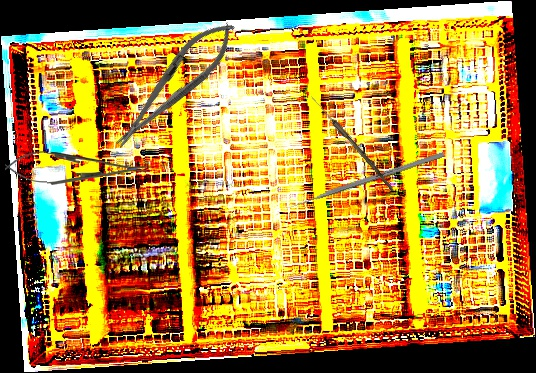Needle Holder: (102, 9, 246, 160), (4, 150, 148, 187)
Pusher: (285, 151, 445, 211)
Surgical Spoon: (308, 94, 397, 192)
